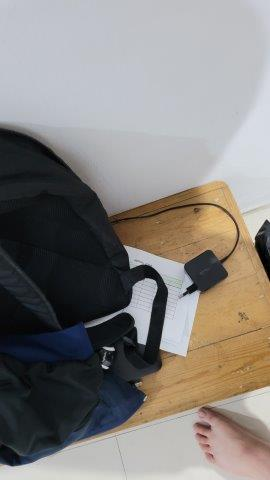kertas: (111, 246, 203, 358)
